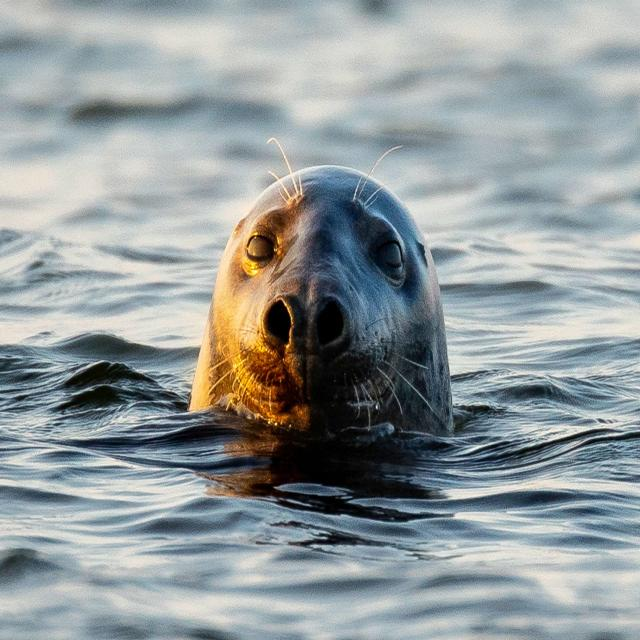WaterDog: (191, 159, 469, 445)
